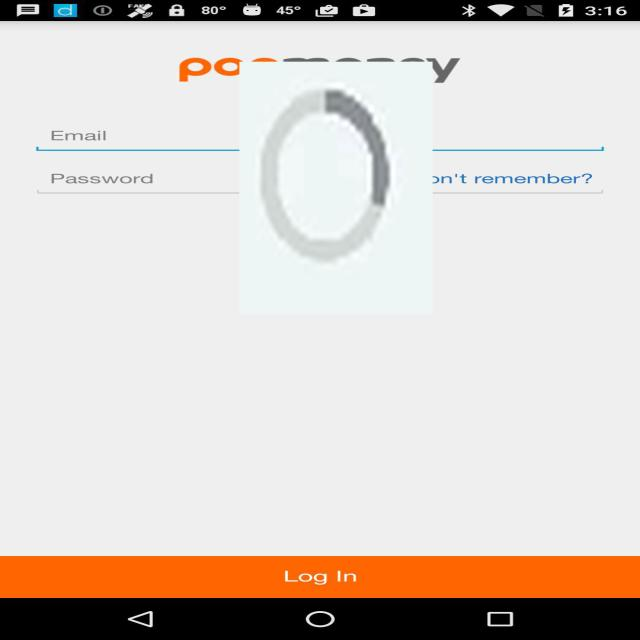misdirection: (240, 62, 432, 314)
